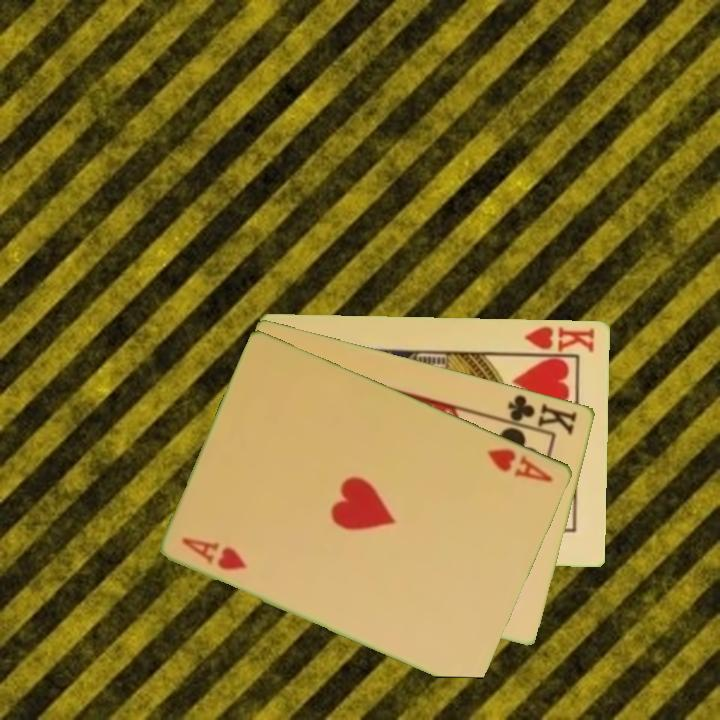Ah: (484, 444, 557, 485), (178, 533, 251, 573)
Kc: (498, 391, 581, 437)
Kh: (516, 322, 598, 357)
